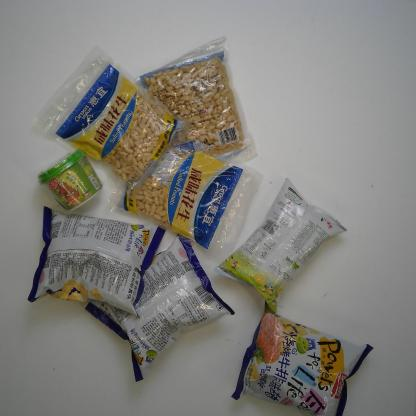Dried Fruit: (28, 44, 186, 192), (101, 138, 261, 257), (134, 32, 258, 177)
Instant Drink: (36, 145, 106, 214)
Puffed Food: (79, 228, 235, 384), (211, 175, 351, 316), (228, 296, 373, 414), (24, 204, 170, 318)
